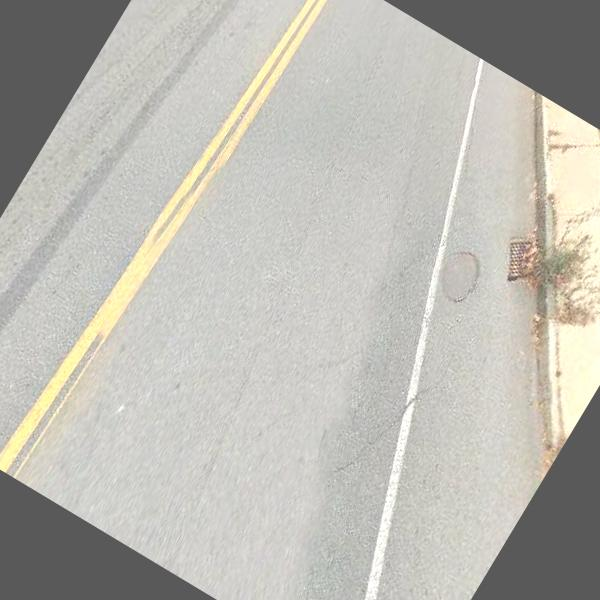manhole: (412, 229, 498, 320)
